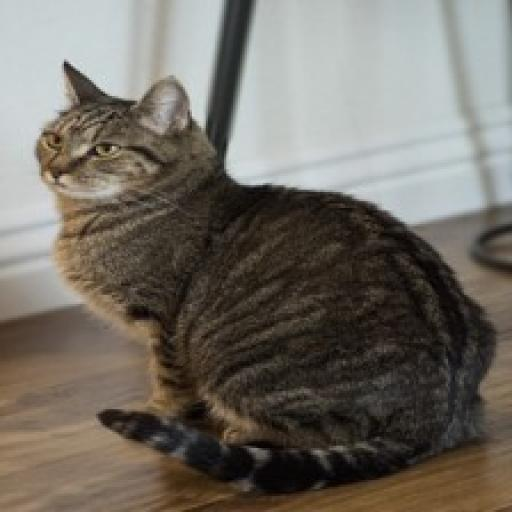cat: (32, 49, 512, 485)
